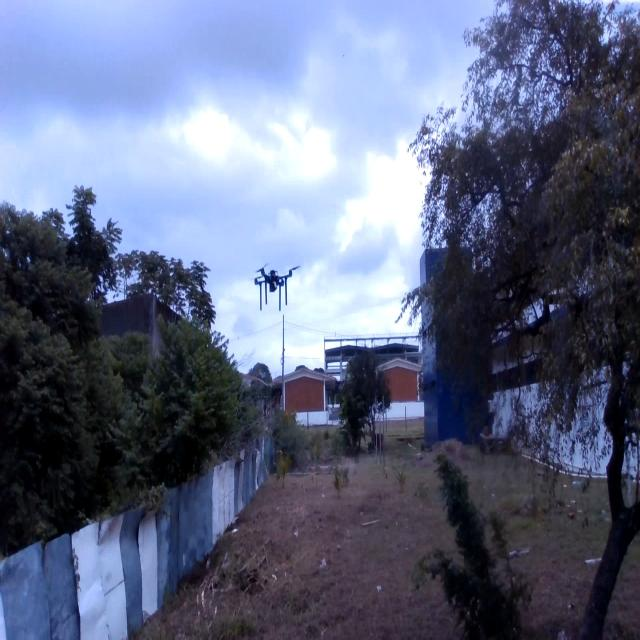-uav-: (242, 256, 304, 316)
